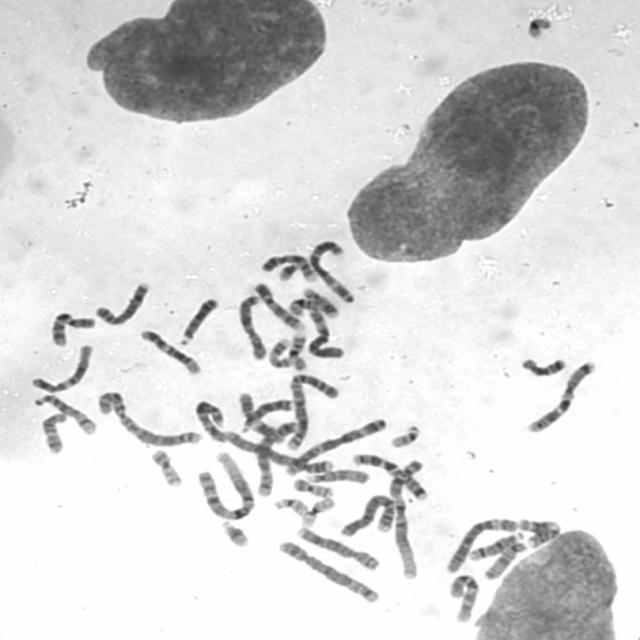A1: (385, 452, 428, 580), (191, 447, 258, 522)
A2: (92, 386, 203, 448), (281, 368, 342, 452)
A3: (278, 414, 389, 477), (304, 235, 358, 304)
B4: (222, 428, 336, 475), (335, 490, 398, 537)
B5: (274, 535, 382, 604), (251, 415, 300, 498)
C10: (46, 306, 98, 348), (443, 568, 482, 624)
C11: (234, 388, 287, 444), (515, 513, 562, 549)
C12: (27, 339, 96, 393), (134, 324, 203, 376)
C6: (441, 514, 522, 574), (302, 303, 347, 359)
C7: (523, 355, 600, 434), (348, 450, 429, 501)
C8: (292, 521, 384, 572), (90, 277, 153, 327)
C9: (248, 277, 307, 332), (256, 248, 320, 284)
D13: (174, 292, 221, 346), (238, 394, 295, 433)
D14: (29, 390, 98, 436), (464, 528, 528, 562)
D15: (481, 538, 528, 582), (302, 464, 373, 484)
E16: (285, 294, 337, 318), (285, 326, 309, 372)
E17: (297, 283, 341, 319), (264, 334, 294, 368)
E18: (37, 407, 70, 455), (516, 351, 570, 378)
F19: (296, 493, 338, 528), (525, 18, 553, 39)
F20: (146, 445, 185, 488), (289, 474, 335, 498)
G21: (217, 516, 252, 548), (277, 261, 302, 282)
G22: (386, 420, 424, 449), (270, 494, 310, 517)
X: (234, 290, 268, 361), (195, 398, 228, 444)
